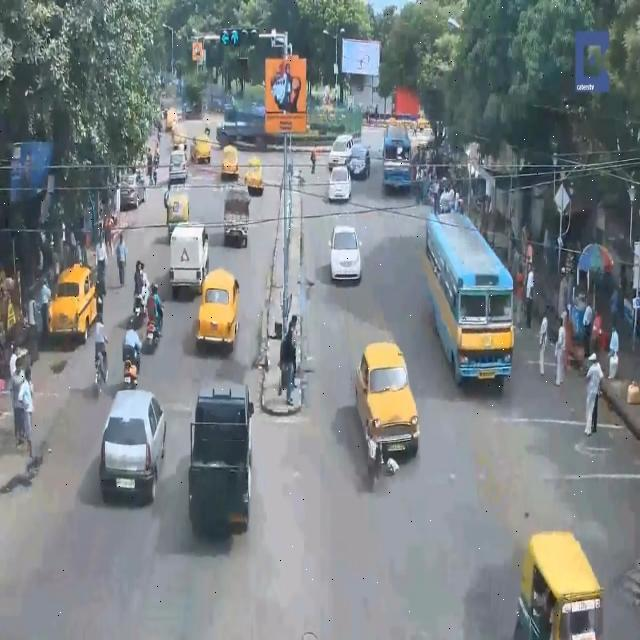accident: (352, 320, 426, 489)
